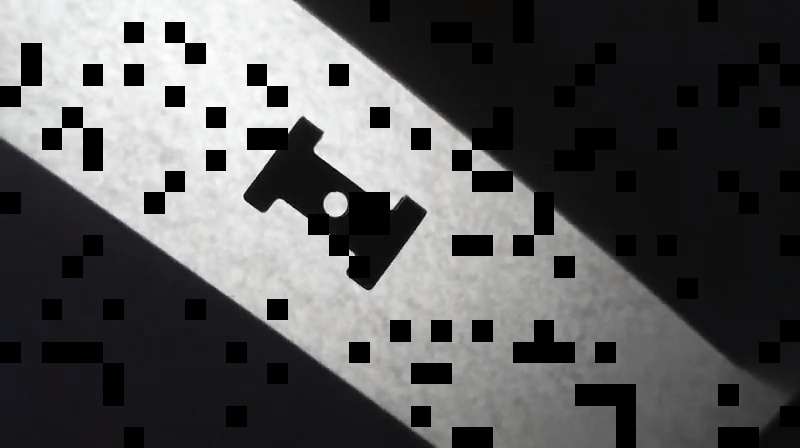O002: (238, 111, 430, 290)
